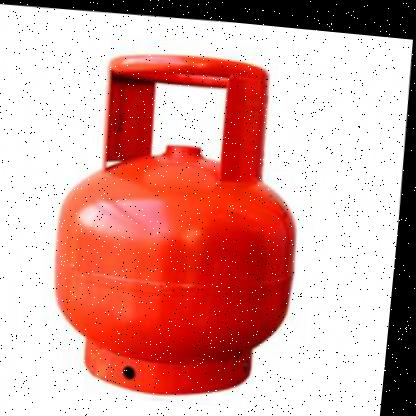gas-tank: (40, 14, 326, 405)
